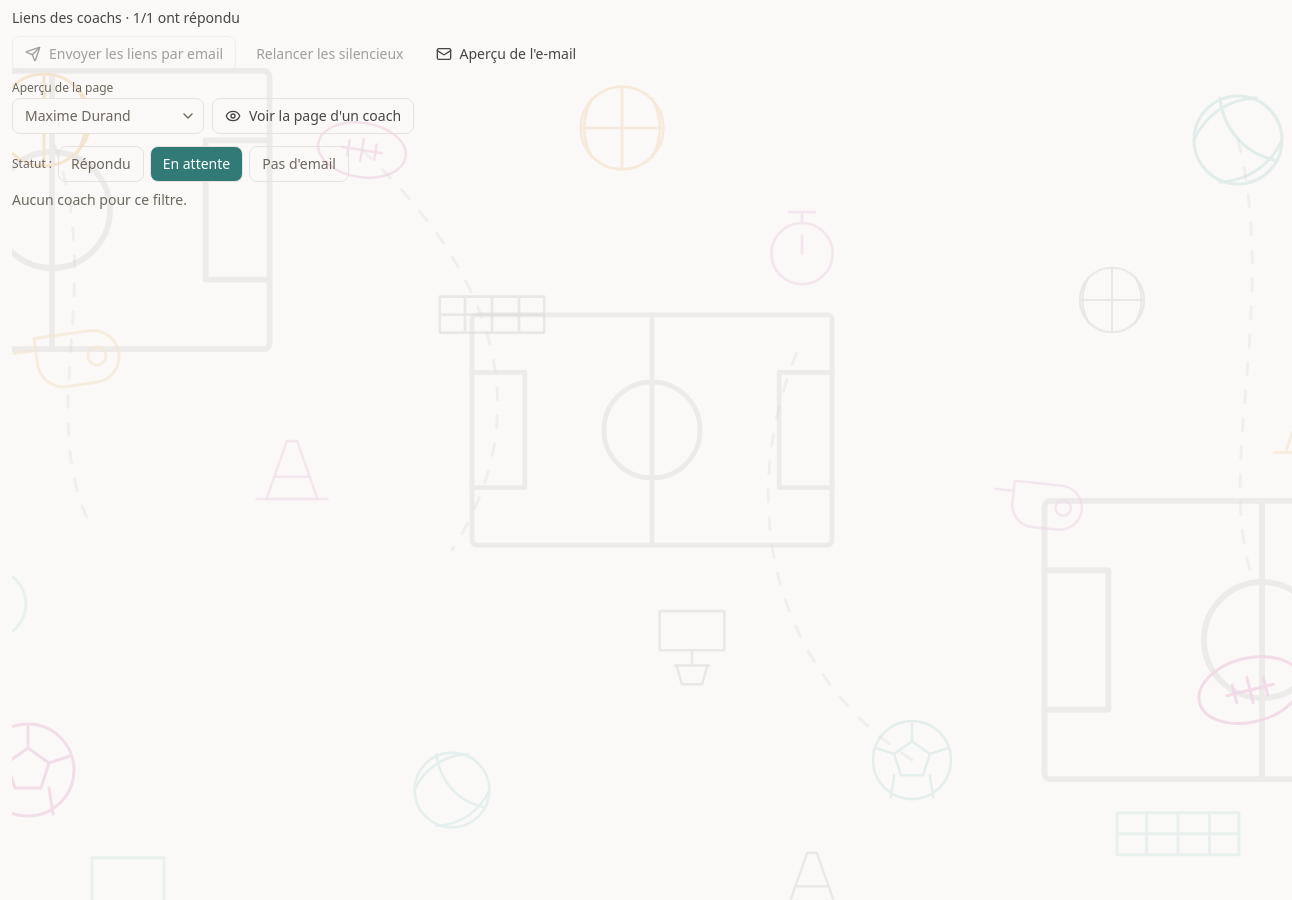
SollicitationTab › pastille « répondu le » et puce active : pas de `text-accent` sur le texte lisible
The width and height of the screenshot is (1292, 900).
Click the button "Répondu": (101, 164) [58,146,144,182]
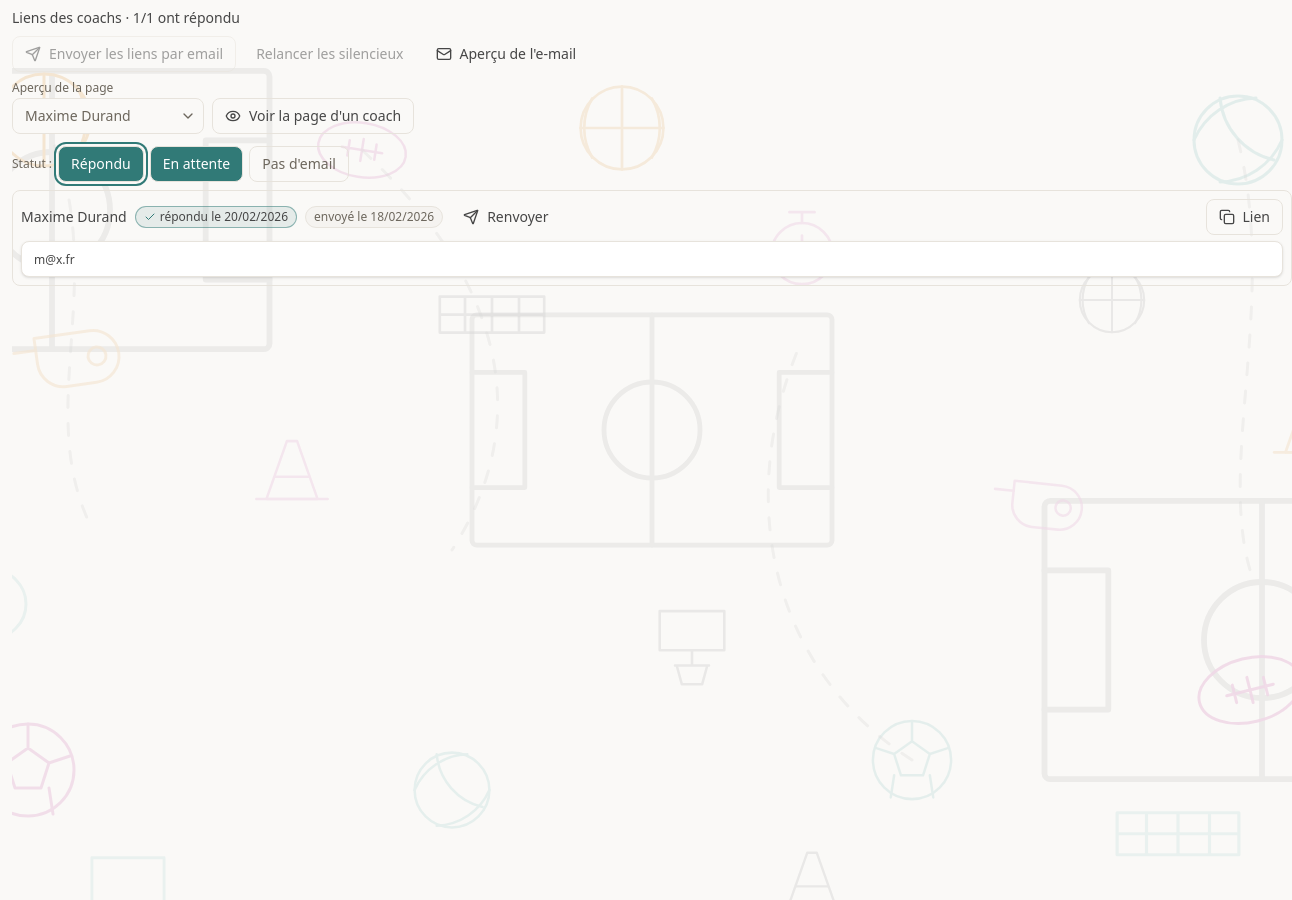
Expected: the text "répondu le 20/02/2026" is shown, [135,206,297,228]
